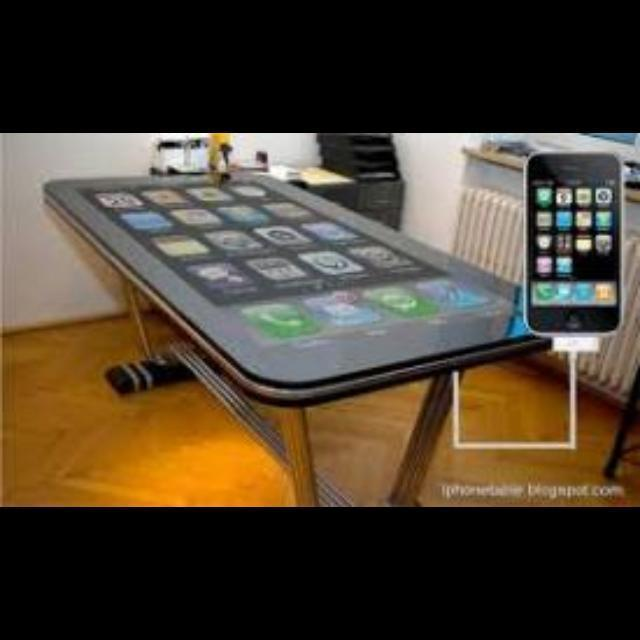phone: (515, 136, 633, 370)
